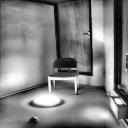chair_success: (33, 56, 86, 98)
